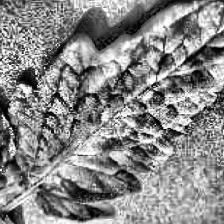leaf mold: (9, 0, 224, 223)
